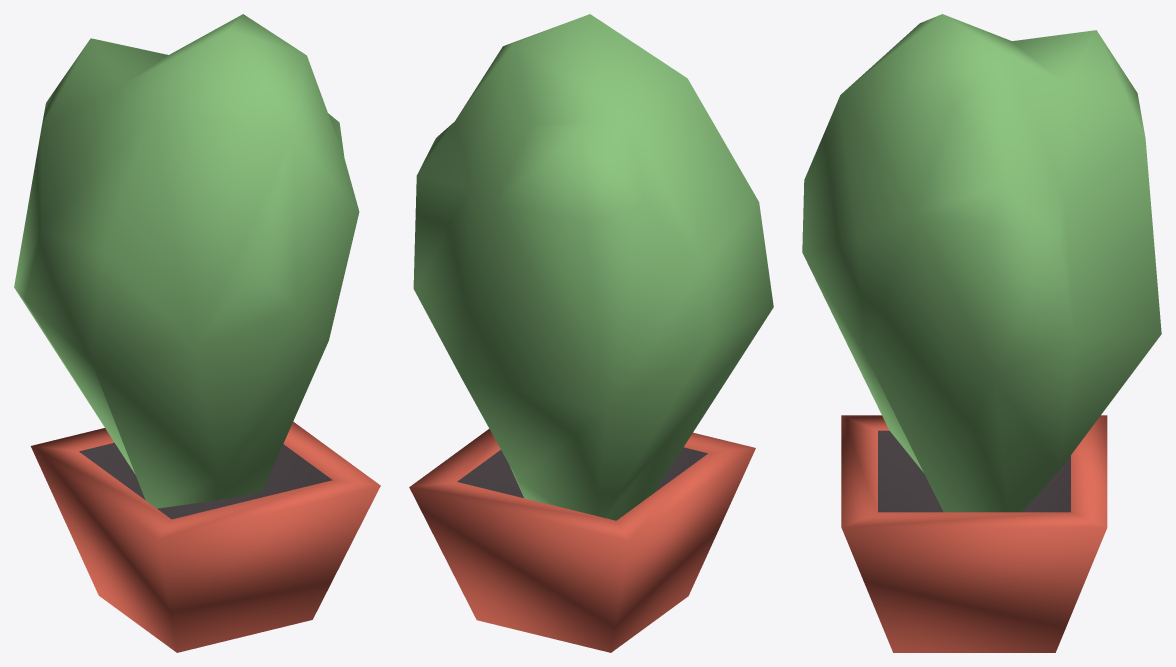
File: PlantPotB_geo.fbx
3 renders of one model, left to right at view 1: azimuth 30°, elevation 25°; view 2: azimuth 150°, elevation 25°; view 3: azimuth 270°, elevation 25°, orthographic. The views are drawn at different scales.
Parts seen in each view (by area): view 1: PlantPotB_geo; view 2: PlantPotB_geo; view 3: PlantPotB_geo.
Part boxes in pixels (<box>): PlantPotB_geo: <box>14,14,380,652</box>; PlantPotB_geo: <box>409,14,773,652</box>; PlantPotB_geo: <box>802,14,1161,652</box>.
Bounding box in the file's own units: 0.4498 × 0.4425 × 0.8269.
